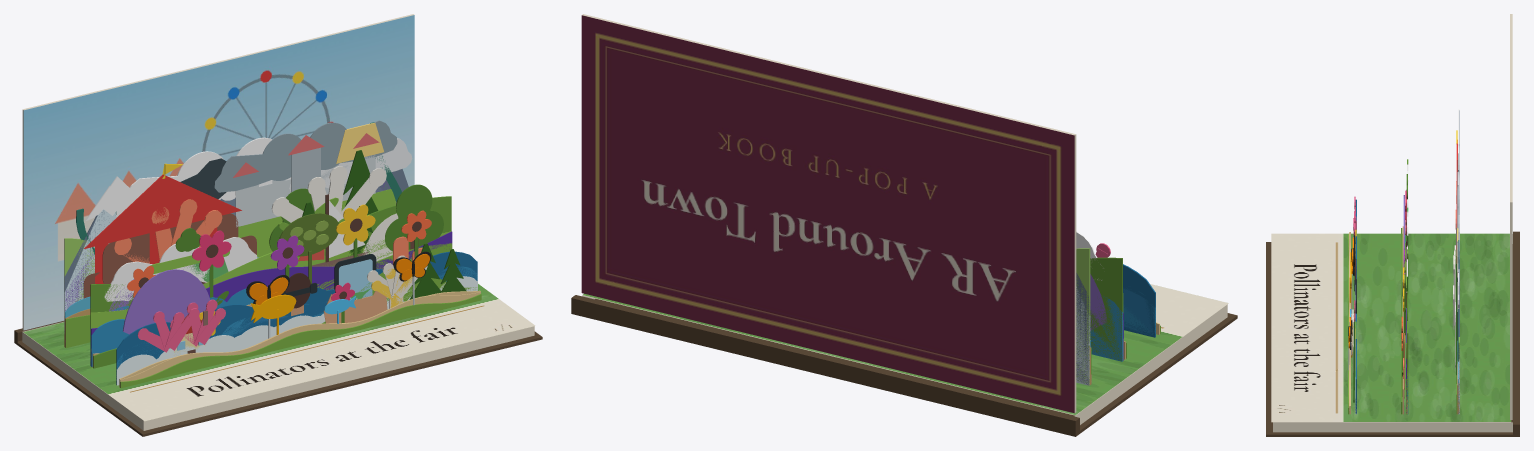
File: PopUp.glb
3 renders of one model, left to right at view 1: azimuth 30°, elevation 25°; view 2: azimuth 150°, elevation 25°; view 3: azimuth 270°, elevation 25°, orthographic. The views are drawn at different scales.
Parts seen in each view (by area): view 1: popup__ar_around_town_s0_back, popup__ar_around_town_s0_floor, popup__base, popup__ar_around_town_s0_l3, popup__oceans_vr_s0_l2, popup__water_cycle_s3_l3, popup__what_is_xr_s0_l3, popup__ar_around_town_s0_l1, popup__oceans_vr_s0_l1, popup__water_cycle_s0_l1, popup__ar_around_town_s0_l2, popup__oceans_vr_s1_l3 (+17 smaller); view 2: popup__ar_around_town_s0_back, popup__base, popup__ar_around_town_s0_floor, popup__water_cycle_s3_l2, popup__water_cycle_s0_l2, popup__water_cycle_s1_l3, popup__water_cycle_s0_l3, popup__water_cycle_s3_l1, popup__water_cycle_s3_l3, popup__water_cycle_s1_l1, popup__oceans_vr_s1_l2; view 3: popup__ar_around_town_s0_floor, popup__base, popup__ar_around_town_s0_back, popup__ar_around_town_s0_l2, popup__ar_around_town_s0_l1, popup__oceans_vr_s0_l2, popup__water_cycle_s3_l3, popup__ar_around_town_s0_l3, popup__oceans_vr_s1_l3, popup__oceans_vr_s0_l1, popup__oceans_vr_s1_l1, popup__water_cycle_s2_l3 (+1 smaller).
Boxes of the visible parts, bbox=[...] form: popup__ar_around_town_s0_back: bbox=[22, 14, 414, 330]; popup__ar_around_town_s0_floor: bbox=[23, 284, 534, 420]; popup__base: bbox=[14, 321, 542, 436]; popup__ar_around_town_s0_l3: bbox=[65, 150, 378, 348]; popup__oceans_vr_s0_l2: bbox=[92, 197, 422, 367]; popup__water_cycle_s3_l3: bbox=[64, 120, 408, 310]; popup__what_is_xr_s0_l3: bbox=[65, 133, 395, 310]; popup__ar_around_town_s0_l1: bbox=[120, 251, 481, 388]; popup__oceans_vr_s0_l1: bbox=[119, 268, 480, 387]; popup__water_cycle_s0_l1: bbox=[116, 251, 477, 385]; popup__ar_around_town_s0_l2: bbox=[93, 204, 431, 368]; popup__oceans_vr_s1_l3: bbox=[64, 166, 386, 346]; popup__ar_around_town_s0_back: bbox=[581, 14, 1076, 413]; popup__base: bbox=[571, 295, 1237, 436]; popup__ar_around_town_s0_floor: bbox=[583, 284, 1228, 415]; popup__water_cycle_s3_l2: bbox=[1090, 257, 1122, 360]; popup__water_cycle_s0_l2: bbox=[1090, 296, 1122, 361]; popup__water_cycle_s1_l3: bbox=[1076, 248, 1090, 384]; popup__water_cycle_s0_l3: bbox=[1076, 286, 1090, 385]; popup__water_cycle_s3_l1: bbox=[1123, 289, 1154, 335]; popup__water_cycle_s3_l3: bbox=[1076, 273, 1089, 384]; popup__water_cycle_s1_l1: bbox=[1123, 276, 1155, 337]; popup__oceans_vr_s1_l2: bbox=[1090, 274, 1123, 360]; popup__ar_around_town_s0_floor: bbox=[1271, 233, 1511, 421]; popup__base: bbox=[1266, 231, 1519, 436]; popup__ar_around_town_s0_back: bbox=[1510, 14, 1512, 419]; popup__ar_around_town_s0_l2: bbox=[1401, 190, 1406, 414]; popup__ar_around_town_s0_l1: bbox=[1348, 229, 1356, 414]; popup__oceans_vr_s0_l2: bbox=[1402, 195, 1408, 414]; popup__water_cycle_s3_l3: bbox=[1457, 109, 1459, 412]; popup__ar_around_town_s0_l3: bbox=[1455, 130, 1457, 413]; popup__oceans_vr_s1_l3: bbox=[1453, 181, 1459, 413]; popup__oceans_vr_s0_l1: bbox=[1349, 196, 1355, 413]; popup__oceans_vr_s1_l1: bbox=[1349, 212, 1356, 414]; popup__water_cycle_s2_l3: bbox=[1458, 128, 1459, 393].
Bounding box in the file's own units: 0.532 × 0.299 × 0.296.
91 materials, 22 textured.
